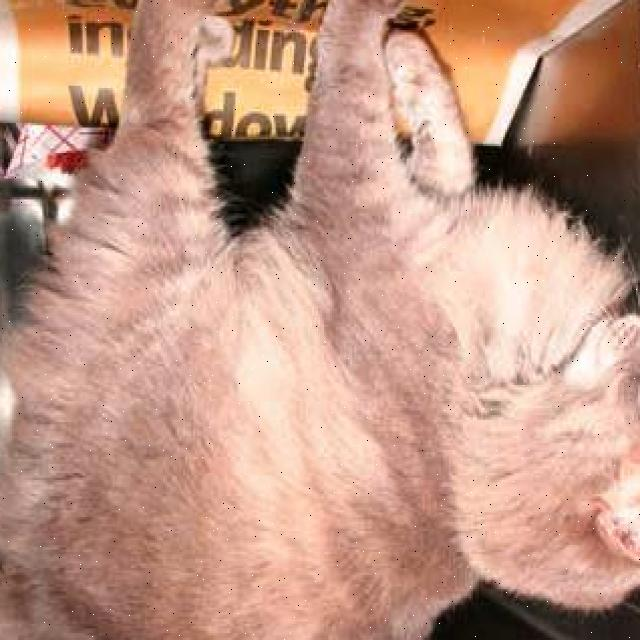Cat: (477, 285, 640, 596)
